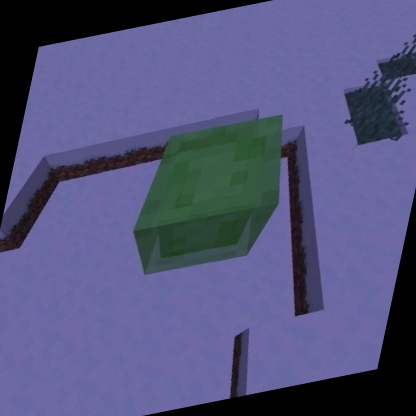slime: (117, 105, 304, 287)
